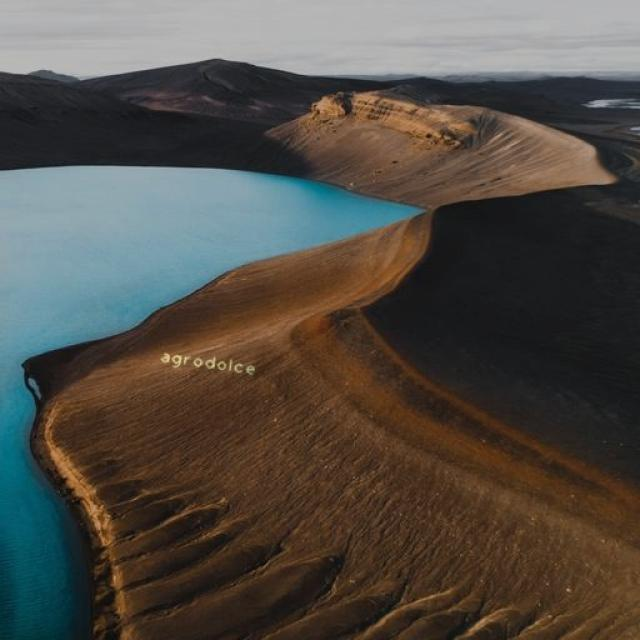watermark: (154, 348, 268, 378)
